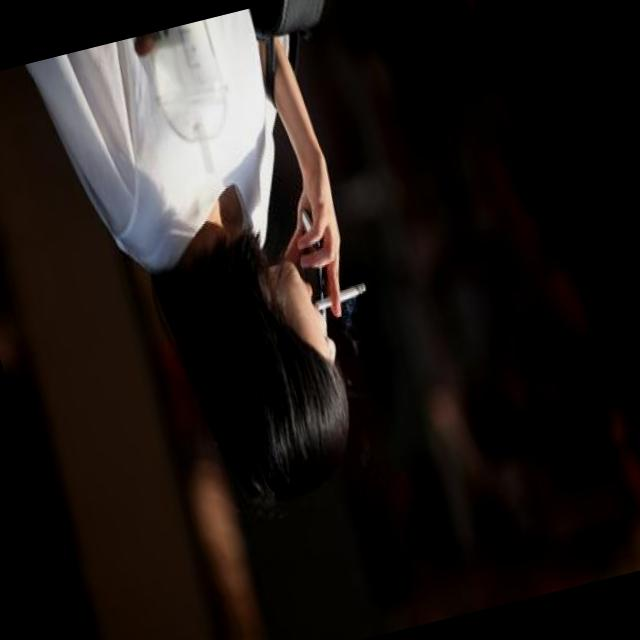smoke: (310, 276, 370, 318)
